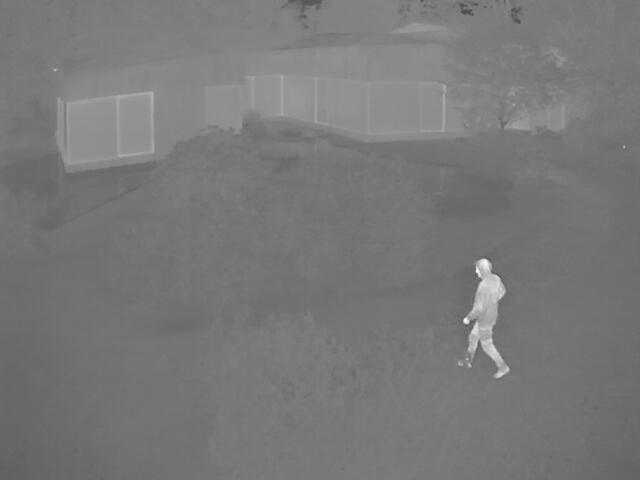person: (454, 256, 509, 379)
